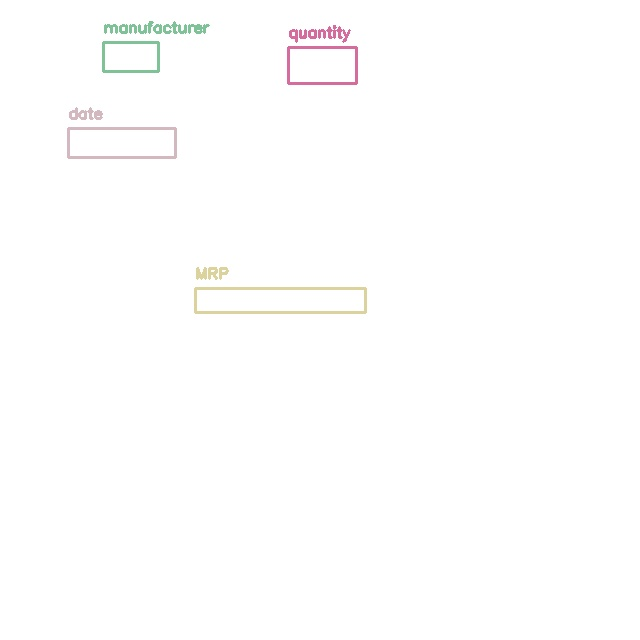MRP: (195, 288, 365, 312)
date: (68, 128, 175, 157)
manufacturer: (103, 42, 158, 71)
quantity: (288, 47, 356, 83)
